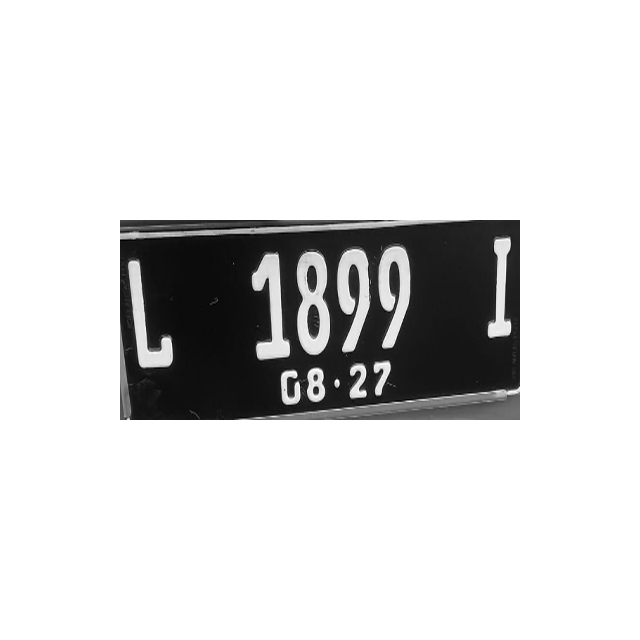contain: (125, 256, 175, 374), (245, 248, 295, 366), (292, 246, 332, 363), (334, 242, 374, 359), (375, 239, 415, 356), (477, 232, 517, 349)
